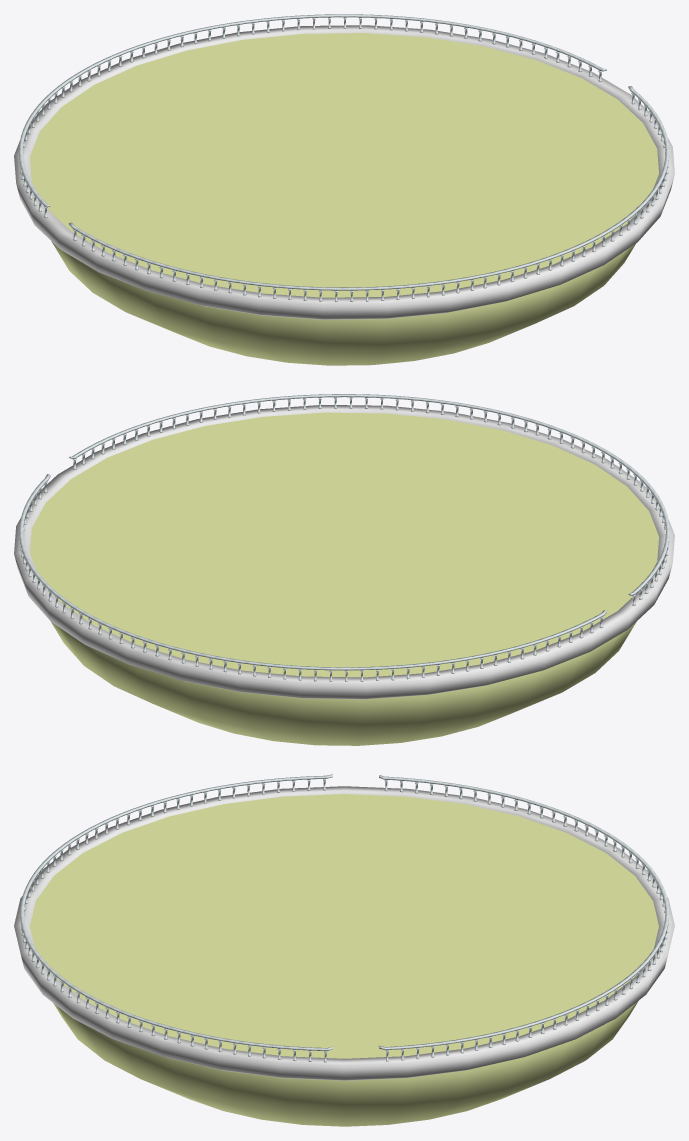
Rendered from MediumPlatform_TwoGate.fbx.
The picture shows the model from 3 angles, top to bottom: view 1: azimuth 30°, elevation 25°; view 2: azimuth 150°, elevation 25°; view 3: azimuth 270°, elevation 25°; orthographic projection.
Visible parts, largest first — view 1: GrassPlatform, Circle, GrassShader, PlatformRailing; view 2: GrassPlatform, Circle, GrassShader, PlatformRailing; view 3: GrassPlatform, Circle, GrassShader, PlatformRailing.
Part boxes in pixels (x1,y1,x2,y2): GrassPlatform: [30, 33, 658, 297]; Circle: [14, 25, 674, 319]; GrassShader: [51, 241, 635, 365]; PlatformRailing: [19, 14, 669, 301]; GrassPlatform: [30, 412, 658, 677]; Circle: [14, 405, 674, 699]; GrassShader: [50, 621, 636, 745]; PlatformRailing: [19, 394, 669, 681]; GrassPlatform: [30, 794, 658, 1058]; Circle: [14, 786, 674, 1080]; GrassShader: [53, 1001, 638, 1126]; PlatformRailing: [20, 774, 669, 1062].
Bounding box in the file's own units: 22500 × 6137 × 22500.
